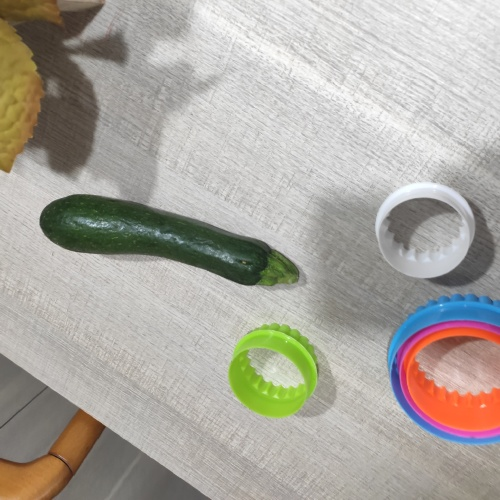zucchine: (41, 189, 312, 306)
